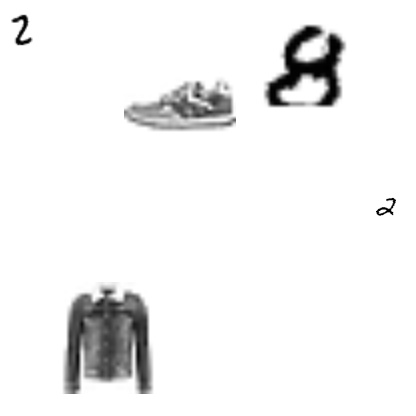2: (1, 9, 43, 51), (373, 194, 401, 222)
8: (249, 10, 361, 122)
Coat: (52, 282, 164, 394)
Sneaker: (124, 46, 236, 158)
